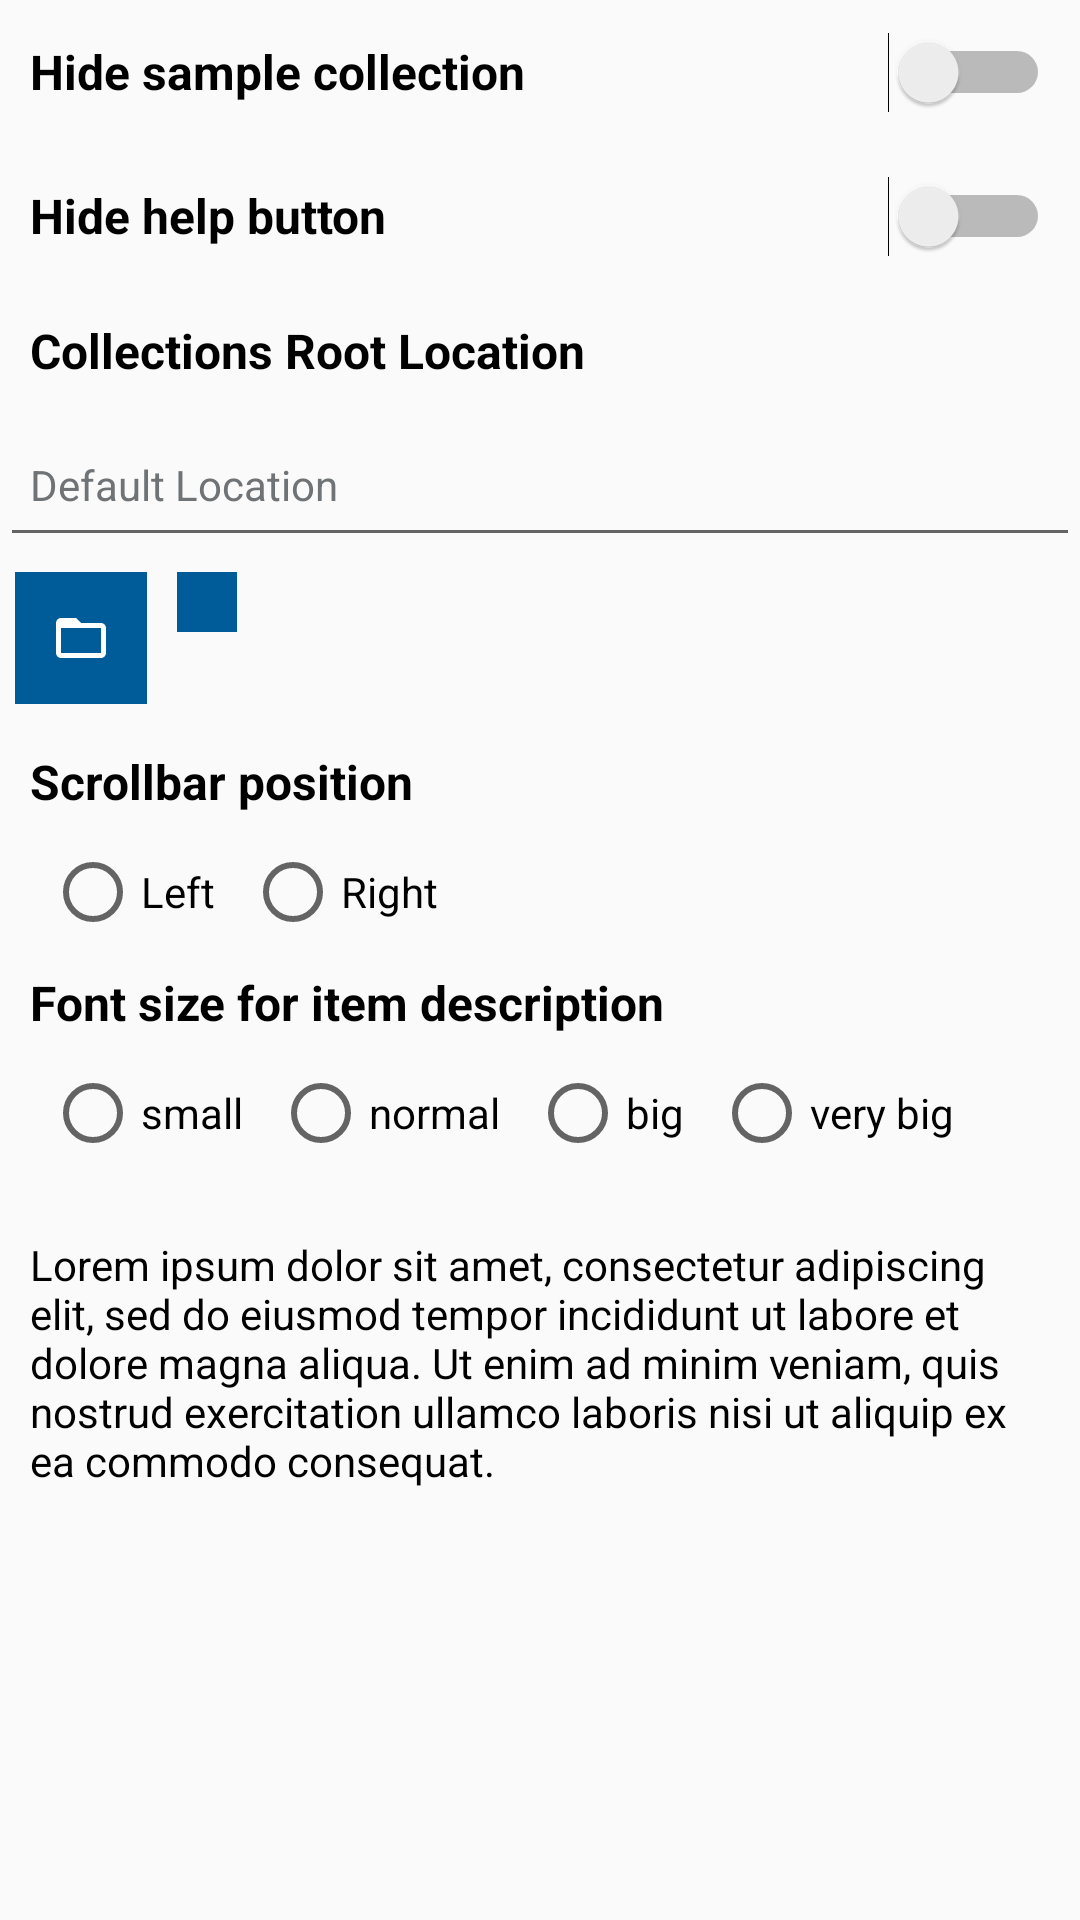

Named icons in this screenshot (1080×1920) and their bounding boxes, bbox(x1, y1, x2, y2):
Choose folder: bbox(15, 572, 147, 704)
